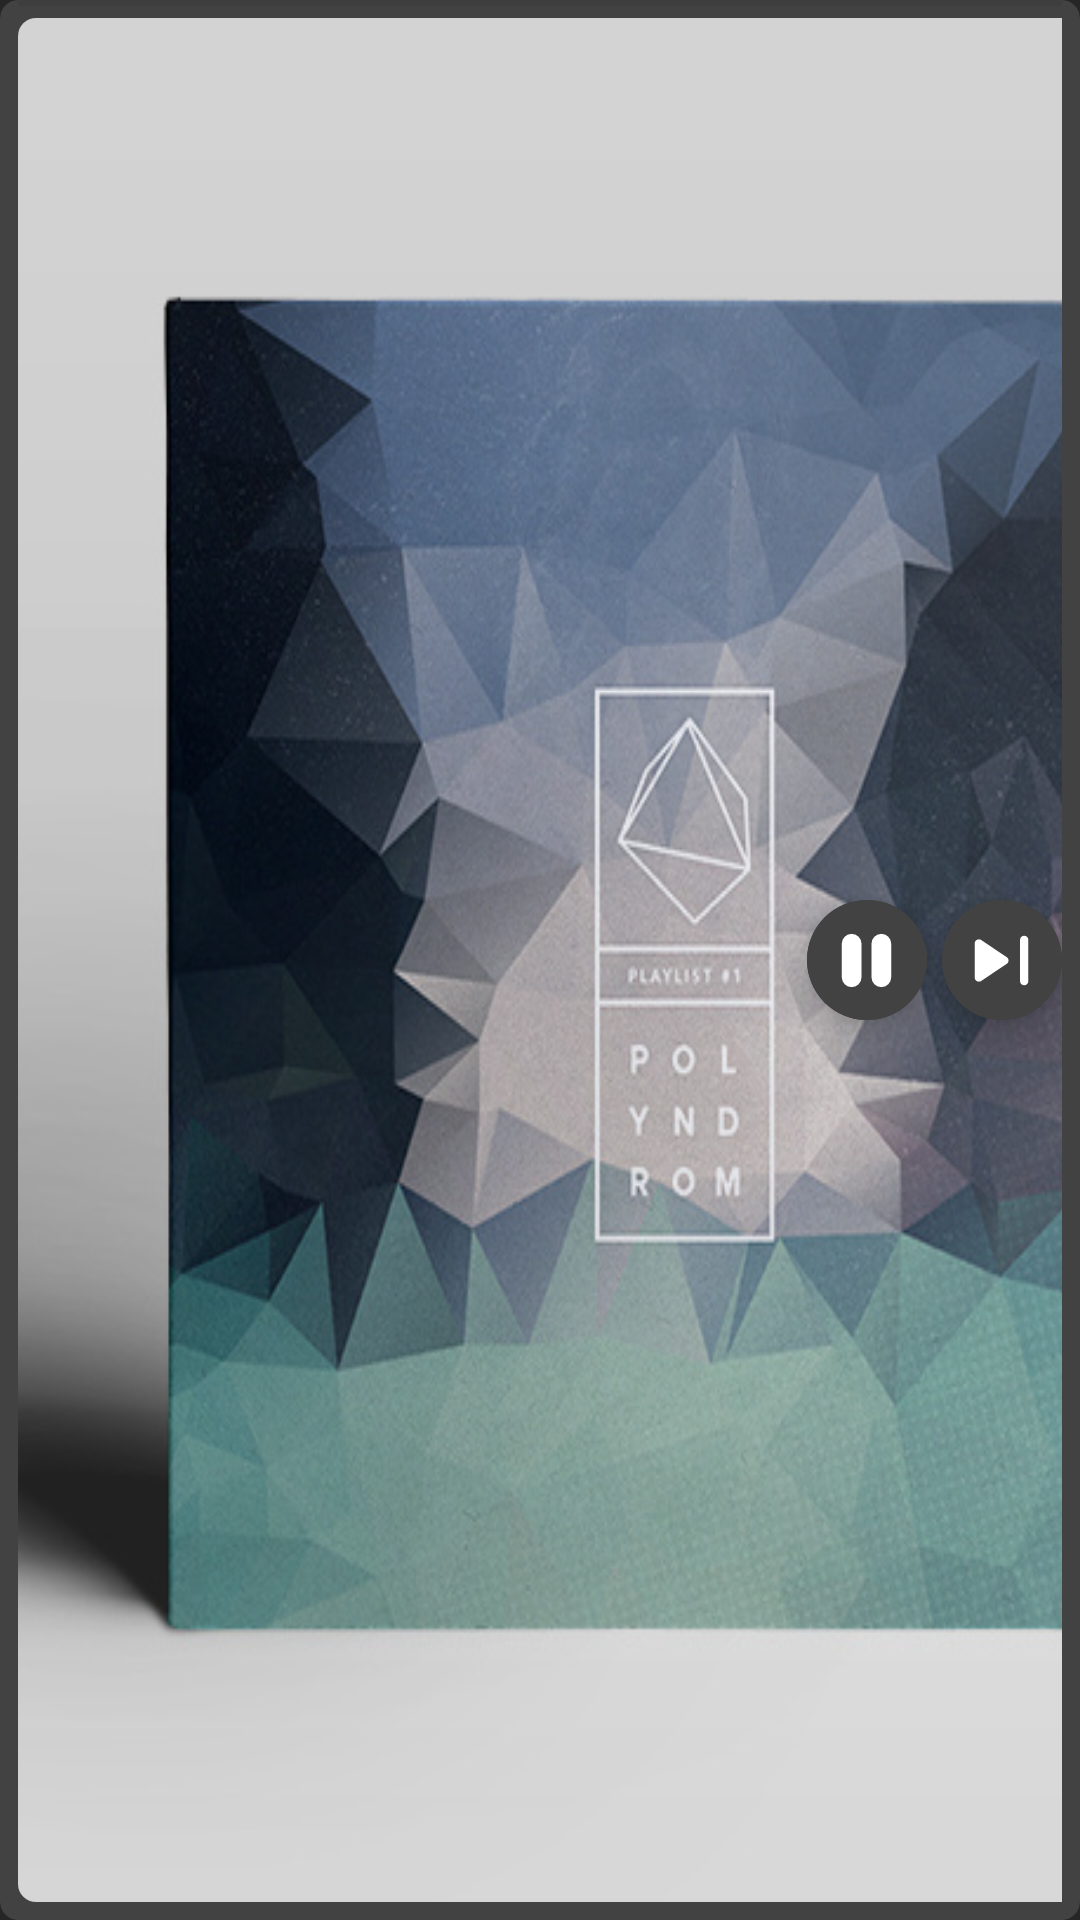

Named icons in this screenshot (1080w x 1920h) and their centers, (x,y):
pause: (867,960)
skip next: (1003,963)
